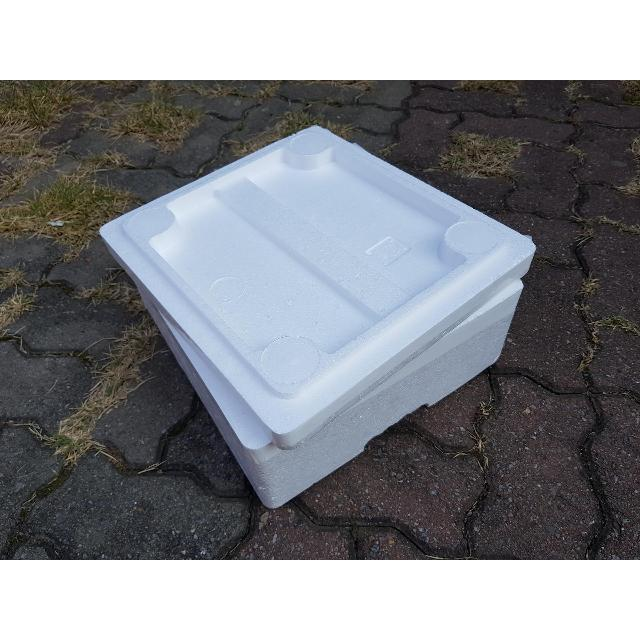Recipiente plastico: (101, 128, 535, 508)
